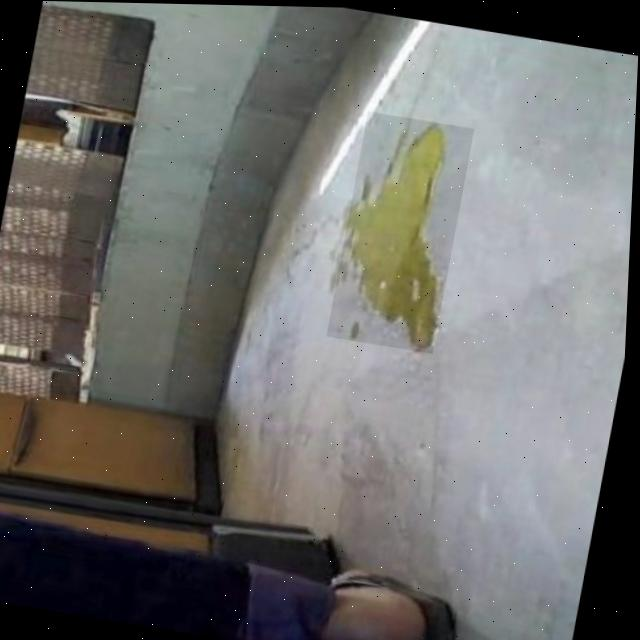spillage: (349, 121, 447, 349)
